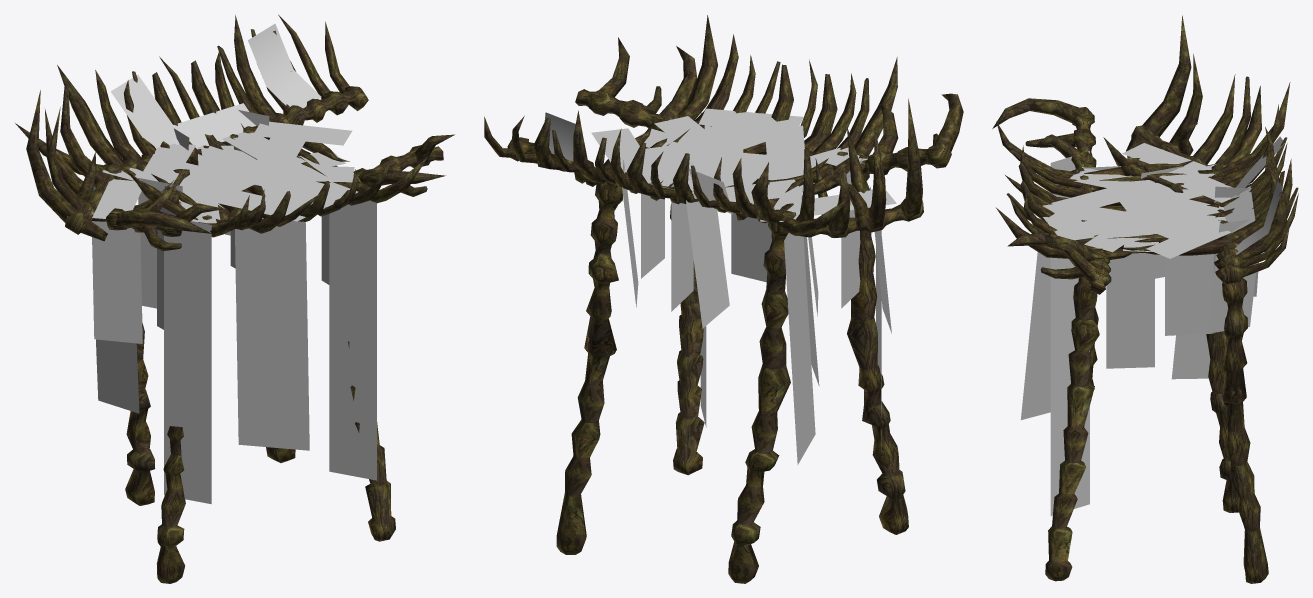
Rendered from 10204_bone08.FBX.
3 renders of one model, left to right at view 1: azimuth 30°, elevation 25°; view 2: azimuth 150°, elevation 25°; view 3: azimuth 270°, elevation 25°, orthographic. The views are drawn at different scales.
Parts seen in each view (by area): view 1: 10204_bone08_2, 10204_bone08_1; view 2: 10204_bone08_1, 10204_bone08_2; view 3: 10204_bone08_1, 10204_bone08_2.
Boxes of the visible parts, bbox=[...] form: 10204_bone08_2: bbox=[91, 24, 376, 504]; 10204_bone08_1: bbox=[15, 14, 454, 583]; 10204_bone08_1: bbox=[484, 15, 963, 583]; 10204_bone08_2: bbox=[544, 108, 896, 464]; 10204_bone08_1: bbox=[992, 15, 1298, 583]; 10204_bone08_2: bbox=[1021, 136, 1284, 515].
Bounding box in the file's own units: 2648 × 3232 × 2043.
